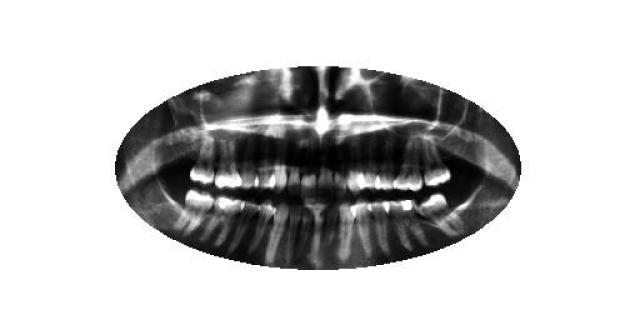Fillings: (202, 195, 242, 247), (385, 201, 425, 250)
